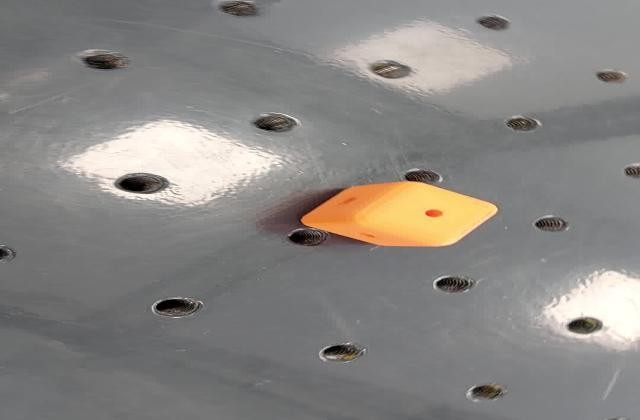cube: (292, 180, 512, 250)
